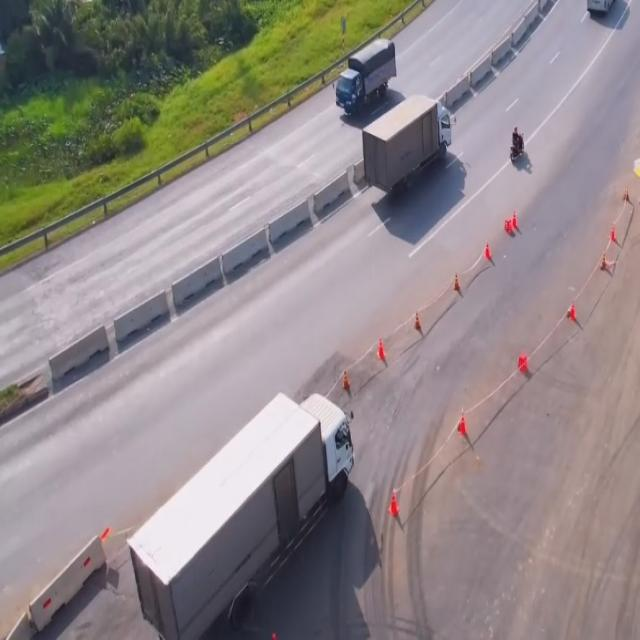motorbike: (509, 127, 525, 165)
truck: (128, 392, 356, 628), (364, 96, 455, 189), (335, 37, 397, 116)
